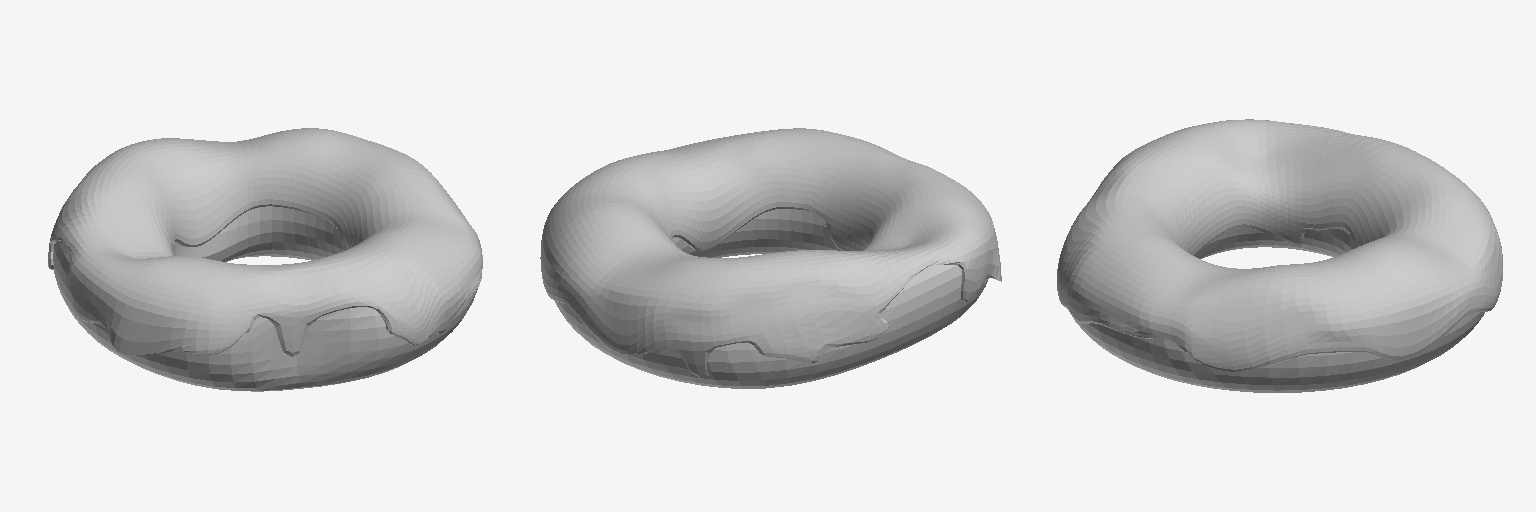
The model's file is donut.obj.
3 views of the same model, side by side, from view 1: azimuth 30°, elevation 25°; view 2: azimuth 150°, elevation 25°; view 3: azimuth 270°, elevation 25° (orthographic).
Visible parts, largest first — view 1: Icing_Torus.002, Donut_Torus.001; view 2: Icing_Torus.002, Donut_Torus.001; view 3: Icing_Torus.002, Donut_Torus.001.
Part boxes in pixels (x1,y1,x2,y2): Icing_Torus.002: (48,128,482,356); Donut_Torus.001: (53,206,477,391); Icing_Torus.002: (540,128,1001,378); Donut_Torus.001: (554,209,988,388); Icing_Torus.002: (1057,119,1502,371); Donut_Torus.001: (1069,228,1484,392).
Bounding box in the file's own units: 0.1788 × 0.0552 × 0.1781.